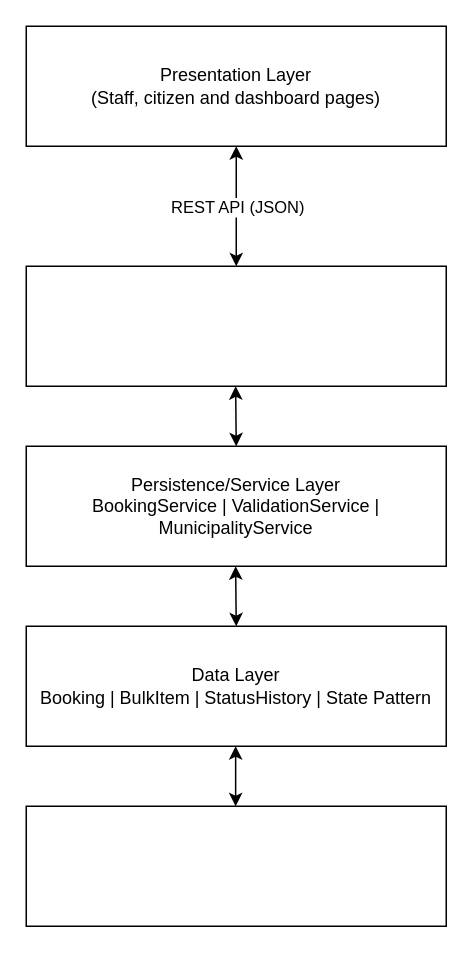
The diagram is 473 pixels wide and 953 high, and some of its shapes have lost their labels. The centre of each missing label's shape, as x and y in pixels:
"Boundary Layer BookingController | StaffController" goes at (x=235, y=325).
"Database H2 / PostgreSQL" goes at (x=235, y=865).
